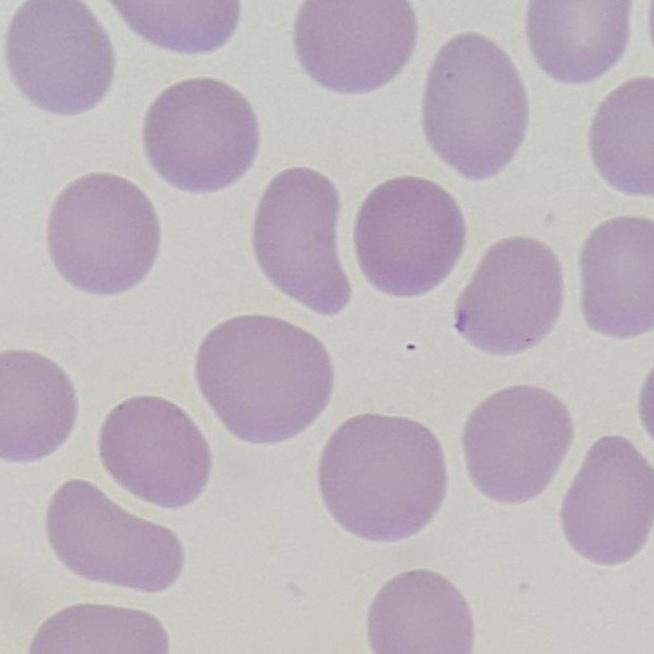Uninfected: (197, 312, 332, 449), (43, 479, 181, 596), (320, 412, 443, 539), (423, 31, 528, 179), (253, 166, 353, 317), (45, 171, 164, 296), (357, 172, 466, 302), (142, 77, 256, 189), (463, 386, 571, 504), (455, 232, 563, 350), (98, 397, 208, 509), (562, 432, 654, 565), (10, 4, 119, 112), (298, 0, 417, 95), (580, 212, 654, 341), (0, 352, 81, 467), (528, 0, 633, 86), (367, 571, 473, 654)
